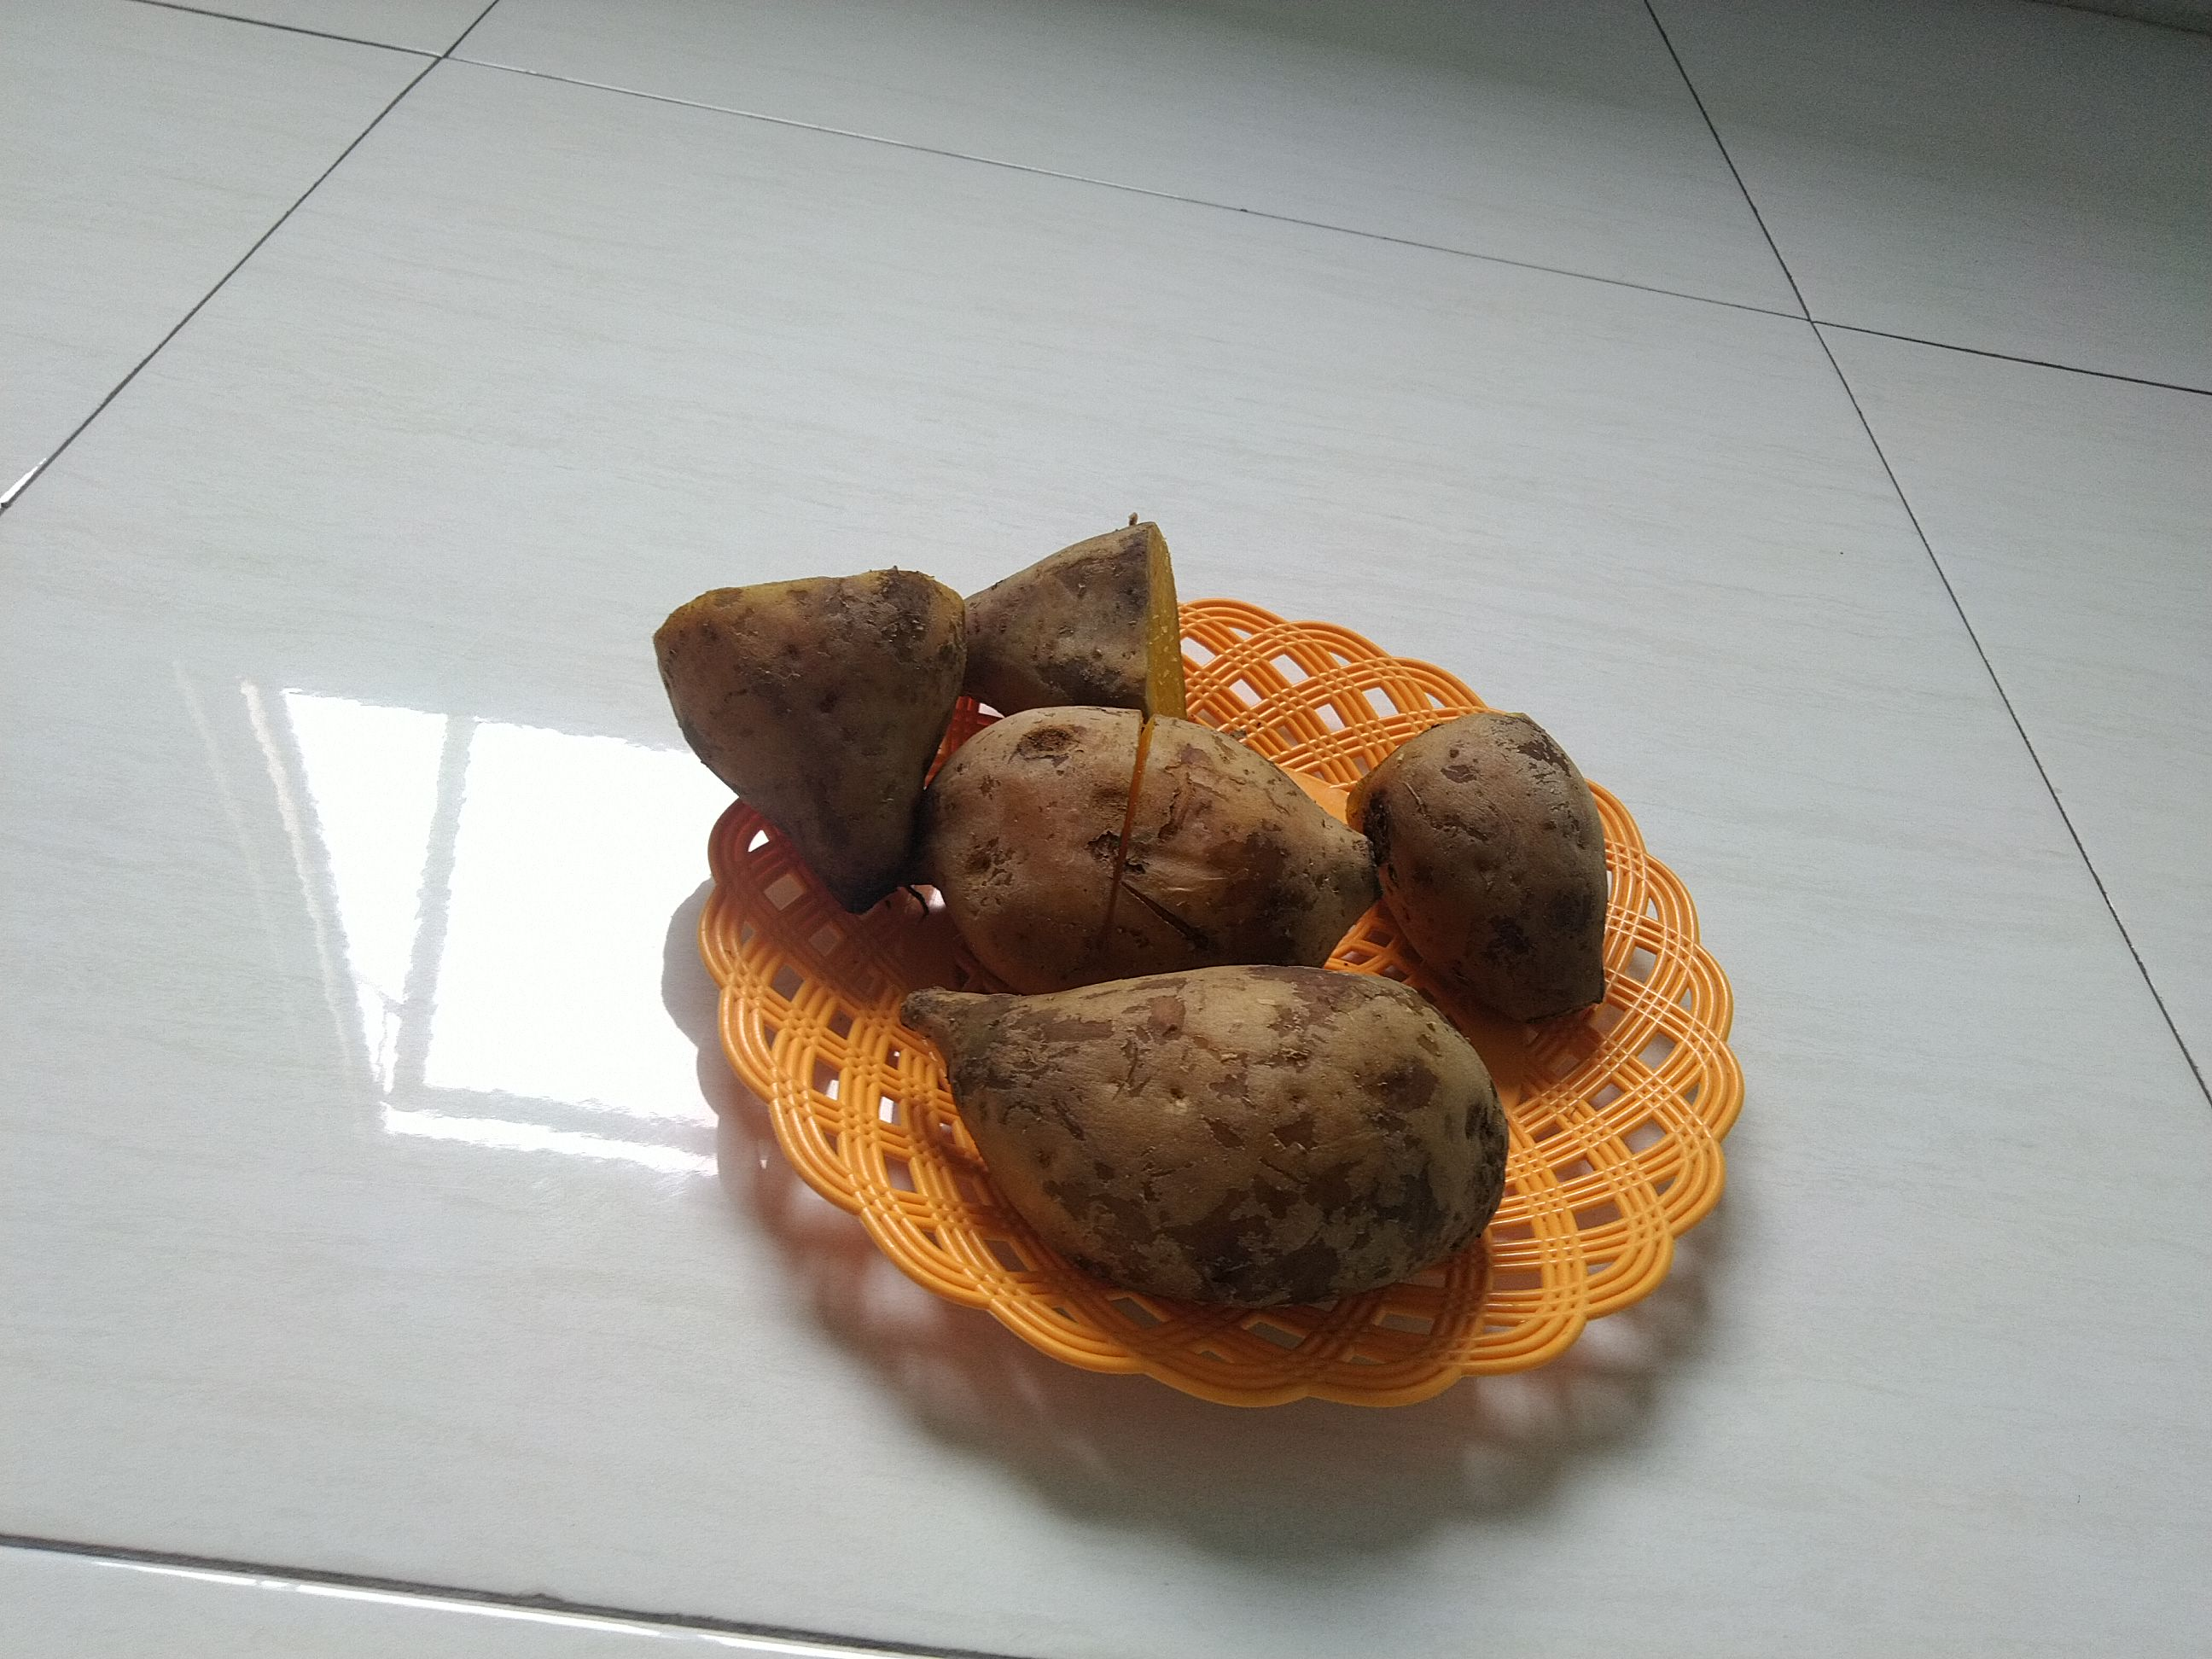ubi kuning: (885, 957, 1541, 1305), (916, 697, 1388, 990), (641, 556, 968, 911), (1345, 699, 1644, 1026), (953, 511, 1216, 727)
